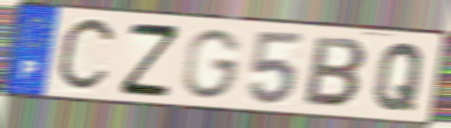5: (246, 30, 307, 108)
B: (301, 33, 370, 111)
C: (53, 14, 120, 97)
G: (180, 27, 245, 102)
Q: (371, 40, 428, 113)
Z: (117, 22, 182, 99)
